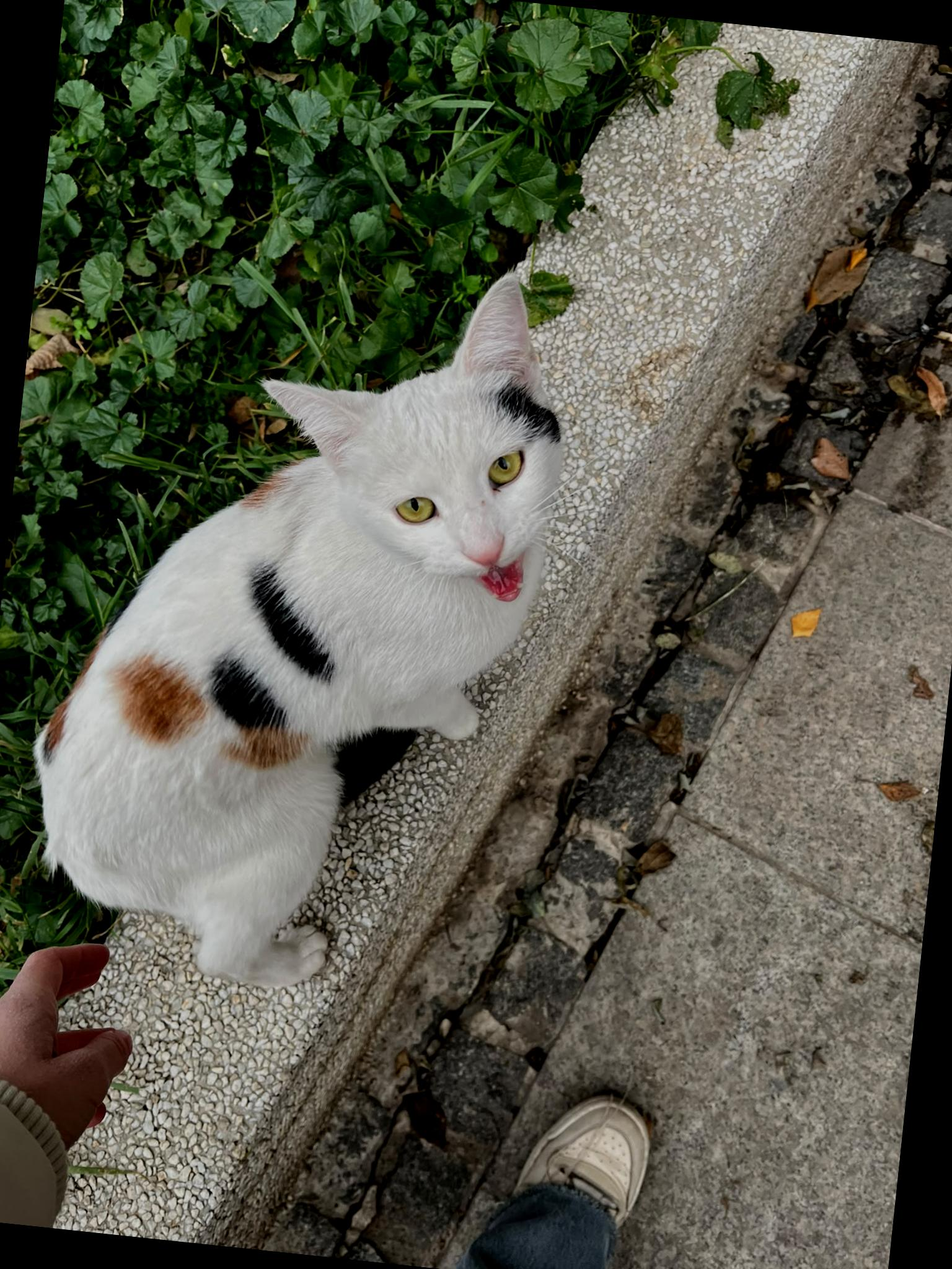macka: (10, 211, 594, 1014)
